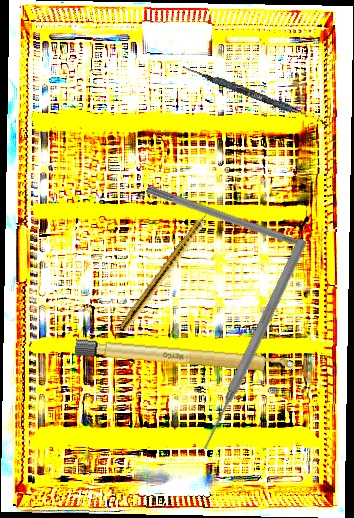Handpiece: (118, 203, 219, 334)
Pusher: (197, 236, 310, 453), (144, 184, 330, 261)
Scalpel Handle: (74, 338, 296, 376)
Spatula Surgical: (180, 64, 331, 127)
